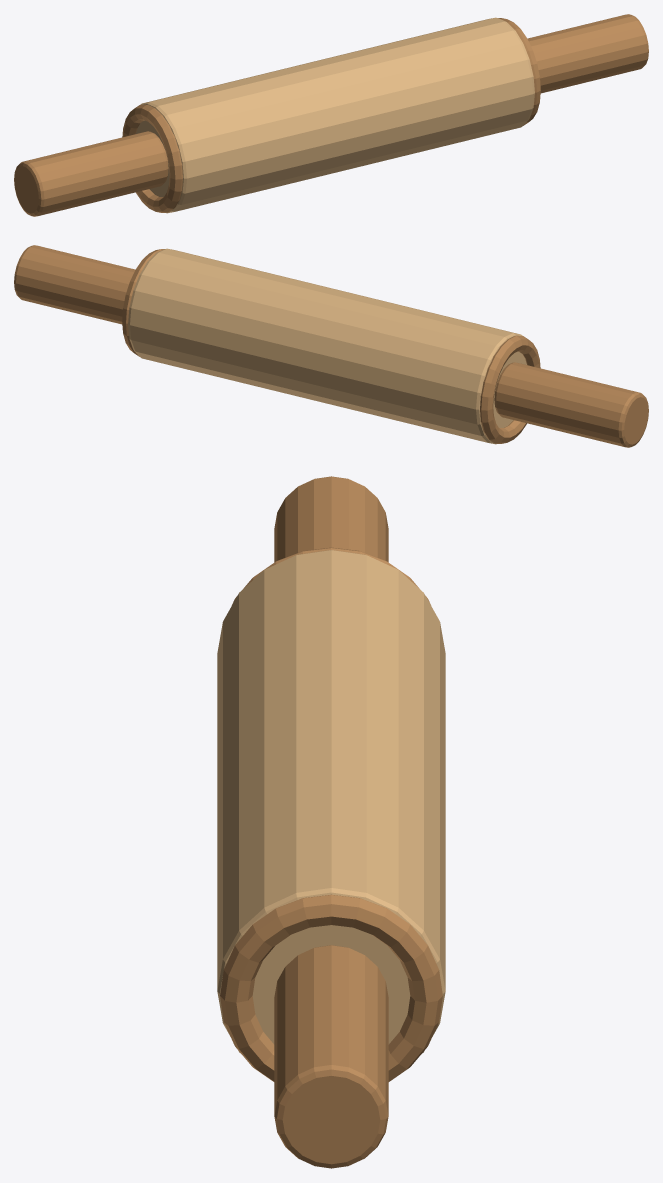
File: P037_rolling_pin.glb
The picture shows the model from 3 angles, top to bottom: view 1: azimuth 30°, elevation 25°; view 2: azimuth 150°, elevation 25°; view 3: azimuth 270°, elevation 25°; orthographic projection. The views are drawn at different scales.
Parts seen in each view (by area): view 1: P037_barrel_001, P037_handle_002, P037_handle_004, P037_endband_003, P037_endband_005; view 2: P037_barrel_001, P037_handle_002, P037_handle_004, P037_endband_003, P037_endband_005; view 3: P037_barrel_001, P037_handle_004, P037_endband_005, P037_handle_002.
Part boxes in pixels (bbox=[...]): P037_barrel_001: bbox=[136, 17, 534, 213]; P037_handle_002: bbox=[14, 131, 168, 216]; P037_handle_004: bbox=[527, 14, 648, 93]; P037_endband_003: bbox=[122, 104, 182, 212]; P037_endband_005: bbox=[498, 18, 540, 125]; P037_barrel_001: bbox=[128, 248, 526, 444]; P037_handle_002: bbox=[494, 362, 648, 447]; P037_handle_004: bbox=[14, 245, 135, 324]; P037_endband_003: bbox=[480, 335, 540, 443]; P037_endband_005: bbox=[122, 249, 164, 356]; P037_barrel_001: bbox=[217, 550, 445, 1053]; P037_handle_004: bbox=[274, 945, 388, 1168]; P037_endband_005: bbox=[220, 894, 442, 1081]; P037_handle_002: bbox=[274, 476, 388, 562].
Bounding box in the file's own units: 0.518 × 0.084 × 0.084.
